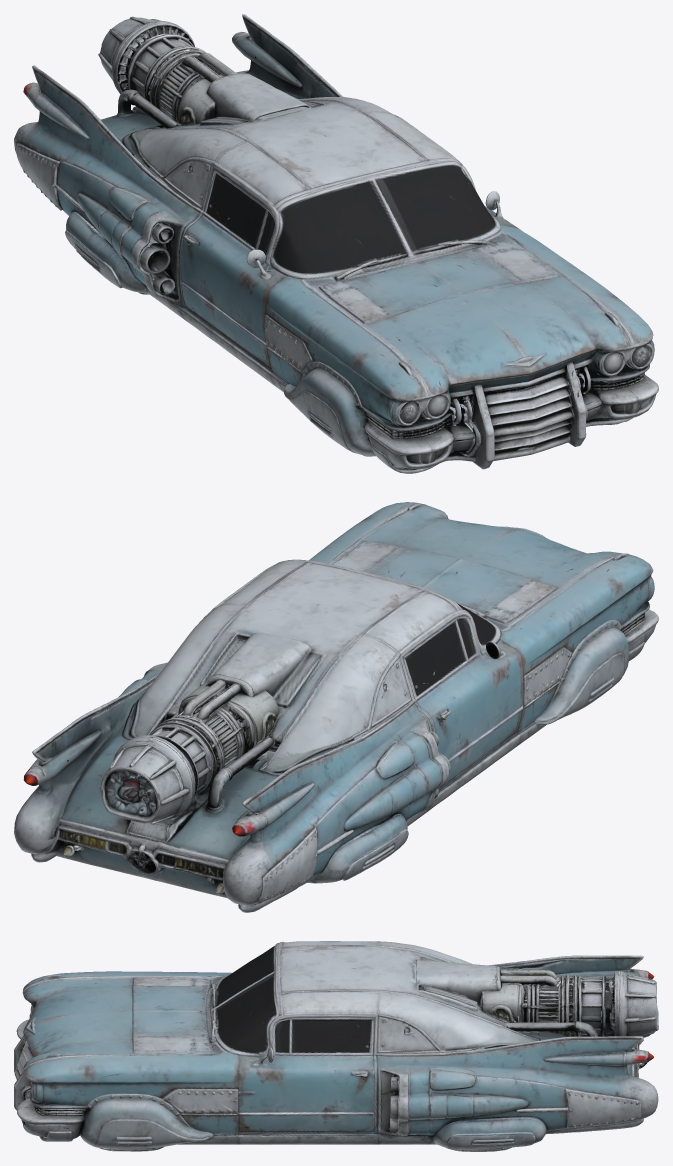
The model's file is rustwing_cruiser_browser.v3.glb.
3 renders of one model, top to bottom at view 1: azimuth 30°, elevation 25°; view 2: azimuth 150°, elevation 25°; view 3: azimuth 270°, elevation 25°, orthographic. The views are drawn at different scales.
Parts seen in each view (by area): view 1: rustwing_cruiser; view 2: rustwing_cruiser; view 3: rustwing_cruiser.
Boxes of the visible parts, left/top/right/bottom form: rustwing_cruiser: left=14, top=14, right=658, bottom=473; rustwing_cruiser: left=14, top=502, right=658, bottom=912; rustwing_cruiser: left=14, top=941, right=658, bottom=1151.
Size of the model in its own units: 3.71 by 2.06 by 8.41.
Materials: 1 (1 with a texture image).
